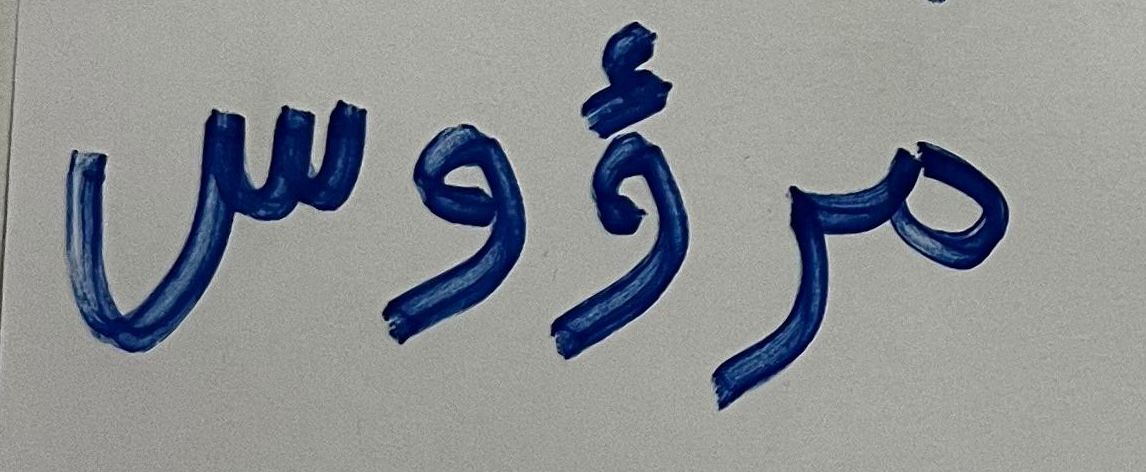meem: (850, 97, 1047, 292)
reh: (711, 149, 843, 440)
seen: (39, 27, 373, 363)
waw: (542, 15, 699, 379), (382, 70, 532, 386)
